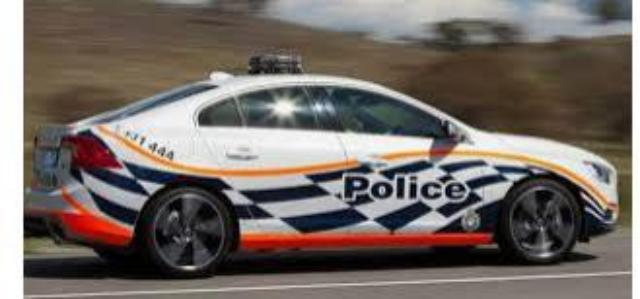police: (23, 54, 619, 280)
